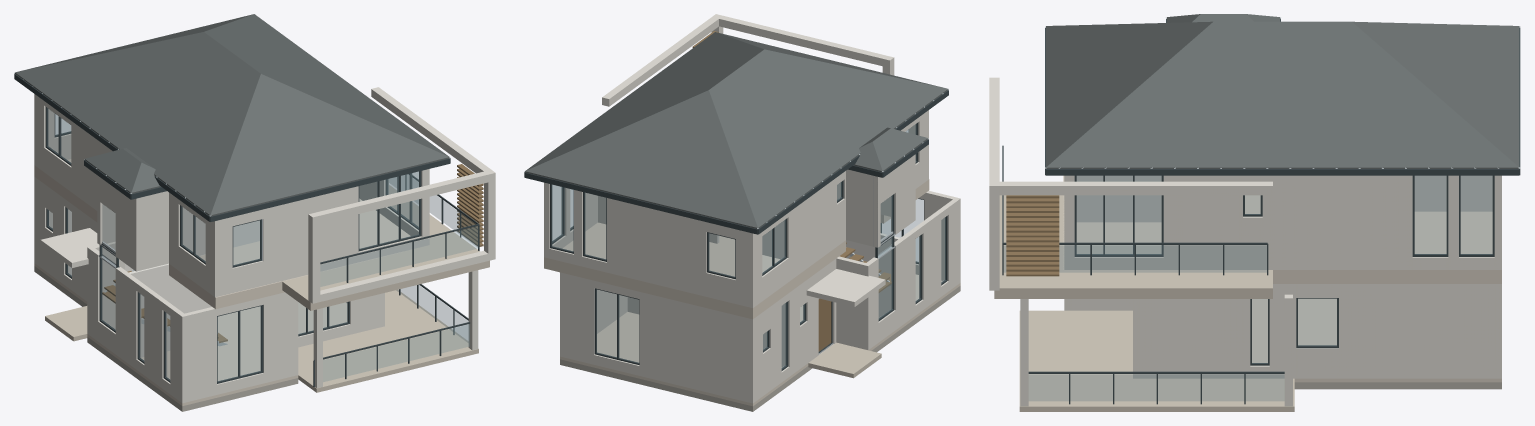
The model's file is isil_kilic_villa.glb.
3 views of the same model, side by side, from view 1: azimuth 30°, elevation 25°; view 2: azimuth 150°, elevation 25°; view 3: azimuth 270°, elevation 25° (orthographic). The views are drawn at different scales.
Parts seen in each view (by area): view 1: Roof, FirstFloor, GroundFloor, GroundFloor_Veranda, FirstFloor_Balcony_L_Plate, GroundFloor_Finished_Floor, FirstFloor_Wall2_U-Study-Front-2310x2385_Pane, GroundFloor_Wall4_G-Kitchen-Front-1710x2385_Pane, FirstFloor_Balcony_Front_Frame_Top, FirstFloor_Balcony_Front_Frame_Base, FirstFloor_Balcony_Right_Return, Foundation_Ground_Plinth (+11 smaller); view 2: Roof, GroundFloor, FirstFloor, GroundFloor_Finished_Floor, GroundFloor_Wall0_G-Bedroom-Rear-1710x2385_Pane, Foundation_Ground_Plinth, FirstFloor_Balcony_Front_Frame_Top, GroundFloor_Entry_Canopy_Roof, FirstFloor_Balcony_Right_Return, GroundFloor_Entry_Canopy_Platform, FirstFloor_Wall0_U-Bed3-Rear2-931x2384_Pane, FirstFloor_Wall0_U-Bed3-Rear1-931x2384_Pane (+7 smaller); view 3: Roof, FirstFloor, GroundFloor, GroundFloor_Veranda, FirstFloor_Balcony_L_Plate, FirstFloor_Wall1_U-Study-East-2310x2385_Pane, FirstFloor_Balcony_Right_Return, GroundFloor_Finished_Floor, FirstFloor_Wall1_U-Bed3-East1-931x2384_Pane, FirstFloor_Wall1_U-Bed3-East2-931x2384_Pane, GroundFloor_Wall1_G-Living-East-1110x1468_Pane, Foundation_Ground_Plinth (+3 smaller).
Part boxes in pixels (x1,y1,x2,y2): Roof: (14,14,450,221); FirstFloor: (34,94,483,309); GroundFloor: (34,177,478,403); GroundFloor_Veranda: (298,289,478,392); FirstFloor_Balcony_L_Plate: (282,185,489,310); GroundFloor_Finished_Floor: (34,263,347,405); FirstFloor_Wall2_U-Study-Front-2310x2385_Pane: (359,172,419,248); GroundFloor_Wall4_G-Kitchen-Front-1710x2385_Pane: (218,306,260,381); FirstFloor_Balcony_Front_Frame_Top: (308,170,495,224); FirstFloor_Balcony_Front_Frame_Base: (308,250,495,303); FirstFloor_Balcony_Right_Return: (371,87,490,173); Foundation_Ground_Plinth: (34,266,298,411); Roof: (524,32,948,234); GroundFloor: (560,191,960,403); FirstFloor: (544,31,929,319); GroundFloor_Finished_Floor: (560,274,960,406); GroundFloor_Wall0_G-Bedroom-Rear-1710x2385_Pane: (597,290,638,362); Foundation_Ground_Plinth: (560,286,960,411); FirstFloor_Balcony_Front_Frame_Top: (713,14,894,66); GroundFloor_Entry_Canopy_Roof: (806,269,885,306); FirstFloor_Balcony_Right_Return: (602,17,718,106); GroundFloor_Entry_Canopy_Platform: (808,342,881,378); FirstFloor_Wall0_U-Bed3-Rear2-931x2384_Pane: (552,185,573,251); FirstFloor_Wall0_U-Bed3-Rear1-931x2384_Pane: (585,193,605,259); Roof: (1045,14,1520,175); FirstFloor: (1002,145,1501,283); GroundFloor: (1020,284,1501,406); GroundFloor_Veranda: (1019,310,1294,411); FirstFloor_Balcony_L_Plate: (994,195,1272,298); FirstFloor_Wall1_U-Study-East-2310x2385_Pane: (1077,176,1161,253); FirstFloor_Balcony_Right_Return: (999,181,1272,195); GroundFloor_Finished_Floor: (1252,298,1501,382); FirstFloor_Wall1_U-Bed3-East1-931x2384_Pane: (1461,176,1492,254); FirstFloor_Wall1_U-Bed3-East2-931x2384_Pane: (1415,176,1446,254); GroundFloor_Wall1_G-Living-East-1110x1468_Pane: (1298,299,1336,345); Foundation_Ground_Plinth: (1294,382,1501,389).
Bounding box in the file's own units: 10.86 × 8.99 × 13.8.
